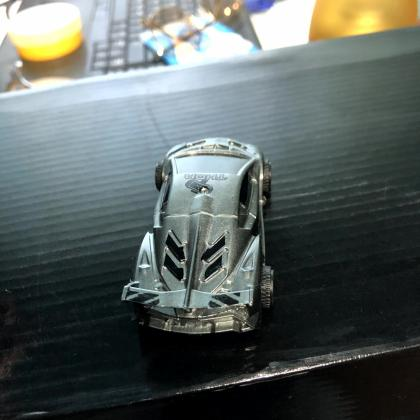Car: (113, 130, 281, 341)
